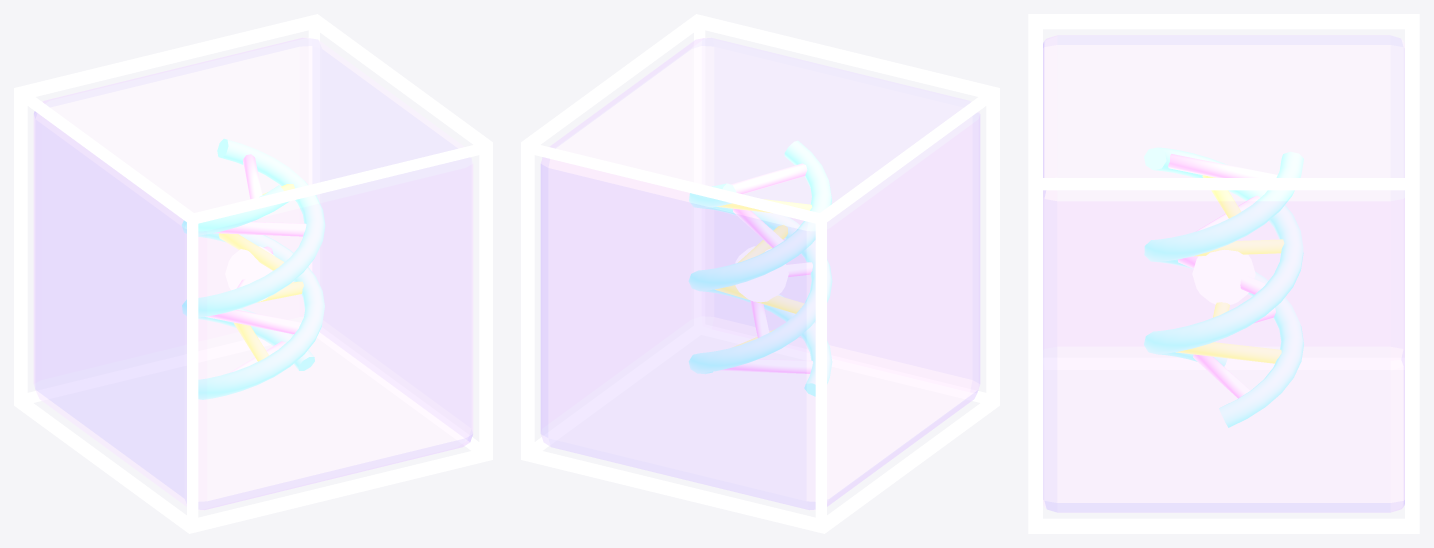
The model's file is G01_ItemBox_DNA.glb.
3 renders of one model, left to right at view 1: azimuth 30°, elevation 25°; view 2: azimuth 150°, elevation 25°; view 3: azimuth 270°, elevation 25°, orthographic. The views are drawn at different scales.
Parts seen in each view (by area): view 1: G01_ItemBox_DNA_Mesh; view 2: G01_ItemBox_DNA_Mesh; view 3: G01_ItemBox_DNA_Mesh.
Part boxes in pixels (x1,y1,x2,y2): G01_ItemBox_DNA_Mesh: (14, 14, 492, 533); G01_ItemBox_DNA_Mesh: (521, 14, 999, 533); G01_ItemBox_DNA_Mesh: (1028, 14, 1419, 533).
Bounding box in the file's own units: 0.7402 × 0.7402 × 0.7402.
